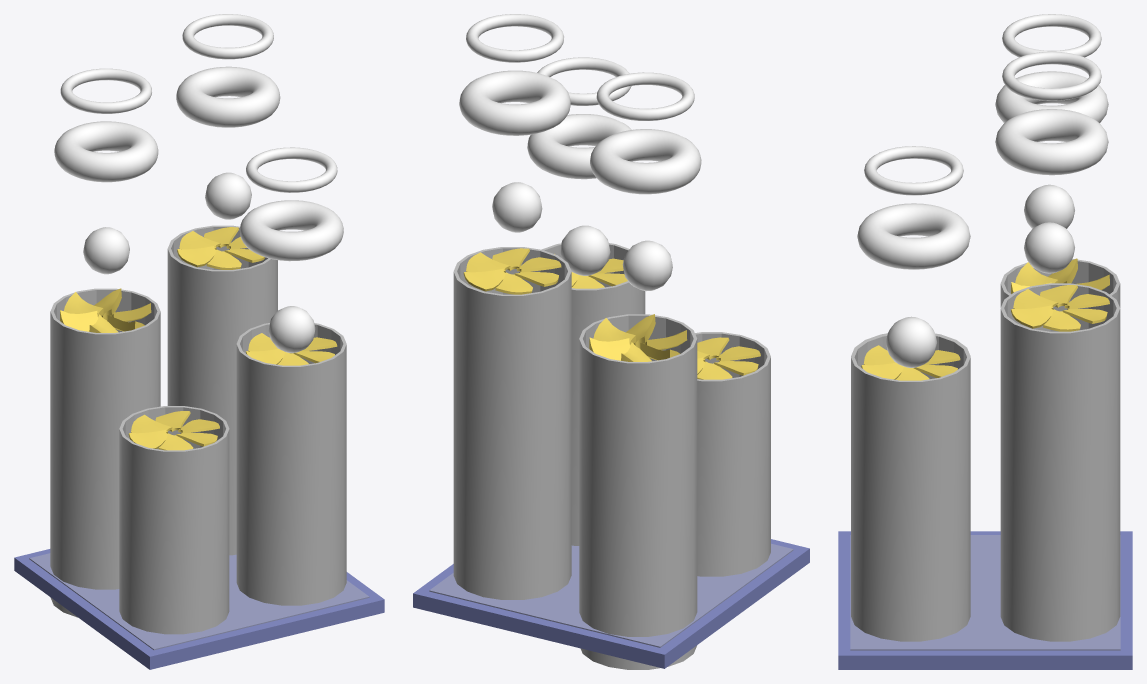
Rendered from 风扇轴居中.fbx.
3 views of the same model, side by side, from view 1: azimuth 30°, elevation 25°; view 2: azimuth 150°, elevation 25°; view 3: azimuth 270°, elevation 25° (orthographic). The views are drawn at different scales.
Parts seen in each view (by area): view 1: Cylinder111_1, Cylinder110_1, Cylinder109_1, Cylinder112_1, Box464_1, Box465_1, 圆环面_5, 圆环面, 圆环面_3, Box466_1, Box467_1, Box469_1 (+7 smaller); view 2: Cylinder112_1, Cylinder110_1, Cylinder109_1, Box464_1, 圆环面_3, 圆环面_5, Box465_1, Cylinder111_1, 圆环面, Box469_1, Box467_1, 圆环面_4 (+7 smaller); view 3: Cylinder112_1, Cylinder111_1, Box464_1, Box465_1, 圆环面, 圆环面_3, Box469_1, 圆环面_5, 圆环面_1, 圆环面_2, 圆环面_4, 球体 (+5 smaller).
Part boxes in pixels (x1=…): Cylinder111_1: x1=236, y1=323, x2=346, y2=605; Cylinder110_1: x1=50, y1=288, x2=160, y2=617; Cylinder109_1: x1=119, y1=406, x2=229, y2=634; Cylinder112_1: x1=167, y1=225, x2=277, y2=555; Box464_1: x1=14, y1=549, x2=384, y2=669; Box465_1: x1=29, y1=553, x2=369, y2=650; 圆环面_5: x1=54, y1=121, x2=158, y2=182; 圆环面: x1=239, y1=200, x2=343, y2=261; 圆环面_3: x1=176, y1=66, x2=280, y2=127; Box466_1: x1=128, y1=411, x2=219, y2=450; Box467_1: x1=60, y1=288, x2=151, y2=332; Box469_1: x1=177, y1=227, x2=264, y2=269; Cylinder112_1: x1=453, y1=247, x2=571, y2=599; Cylinder110_1: x1=579, y1=314, x2=697, y2=669; Cylinder109_1: x1=695, y1=332, x2=770, y2=576; Box464_1: x1=413, y1=539, x2=809, y2=668; 圆环面_3: x1=459, y1=70, x2=570, y2=135; 圆环面_5: x1=590, y1=129, x2=701, y2=194; Box465_1: x1=429, y1=543, x2=793, y2=647; Cylinder111_1: x1=542, y1=243, x2=645, y2=545; 圆环面: x1=527, y1=114, x2=631, y2=179; Box469_1: x1=463, y1=248, x2=561, y2=294; Box467_1: x1=589, y1=314, x2=687, y2=361; 圆环面_4: x1=596, y1=72, x2=694, y2=120; Cylinder112_1: x1=1000, y1=283, x2=1120, y2=641; Cylinder111_1: x1=851, y1=334, x2=970, y2=641; Box464_1: x1=838, y1=531, x2=1132, y2=669; Box465_1: x1=850, y1=535, x2=1120, y2=650; 圆环面: x1=857, y1=203, x2=970, y2=269; 圆环面_3: x1=995, y1=109, x2=1108, y2=175; Box469_1: x1=1011, y1=285, x2=1109, y2=331; 圆环面_5: x1=995, y1=71, x2=1108, y2=122; 圆环面_1: x1=864, y1=146, x2=963, y2=195; 圆环面_2: x1=1002, y1=51, x2=1101, y2=100; 圆环面_4: x1=1002, y1=14, x2=1101, y2=57; 球体: x1=886, y1=316, x2=936, y2=367.
Size of the model in its own units: 513 by 1127 by 513.
